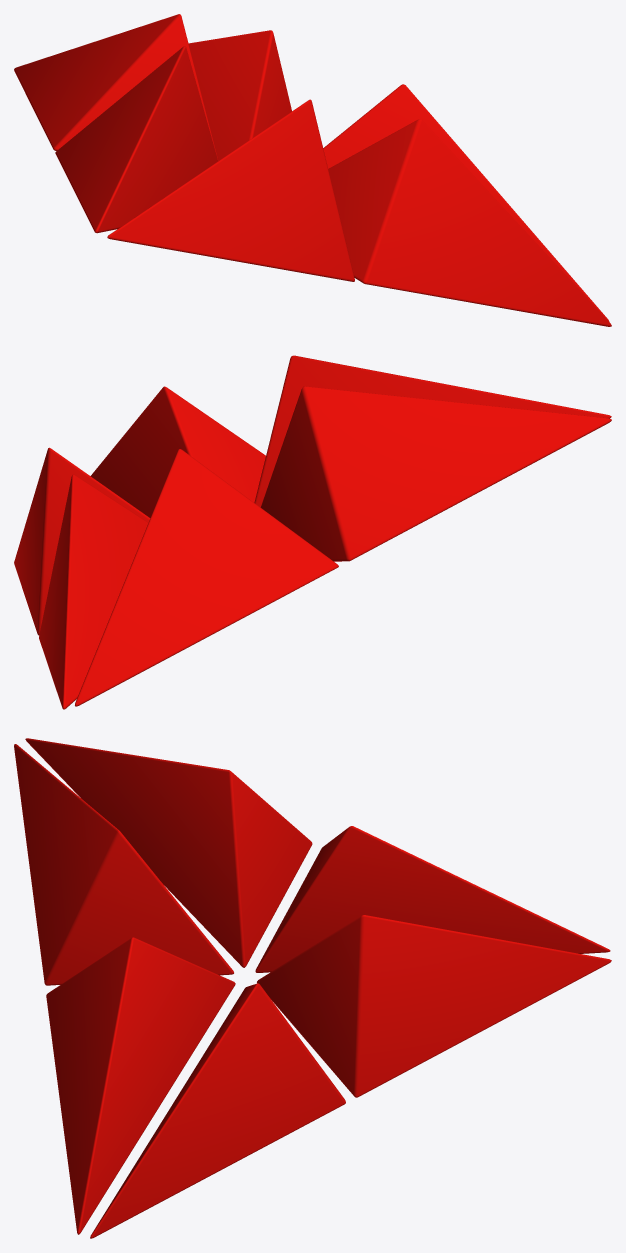
File: Sharp Triangle.gltf
The picture shows the model from 3 angles, top to bottom: view 1: azimuth 30°, elevation 25°; view 2: azimuth 150°, elevation 25°; view 3: azimuth 270°, elevation 25°; orthographic projection. The views are drawn at different scales.
Parts seen in each view (by area): view 1: Plane.017; view 2: Plane.017; view 3: Plane.017.
Boxes of the visible parts, left/top/right/bottom form: Plane.017: left=14, top=14, right=611, bottom=326; Plane.017: left=14, top=355, right=611, bottom=709; Plane.017: left=14, top=738, right=611, bottom=1238.
Size of the model in its own units: 2.04 by 1.11 by 1.99.
